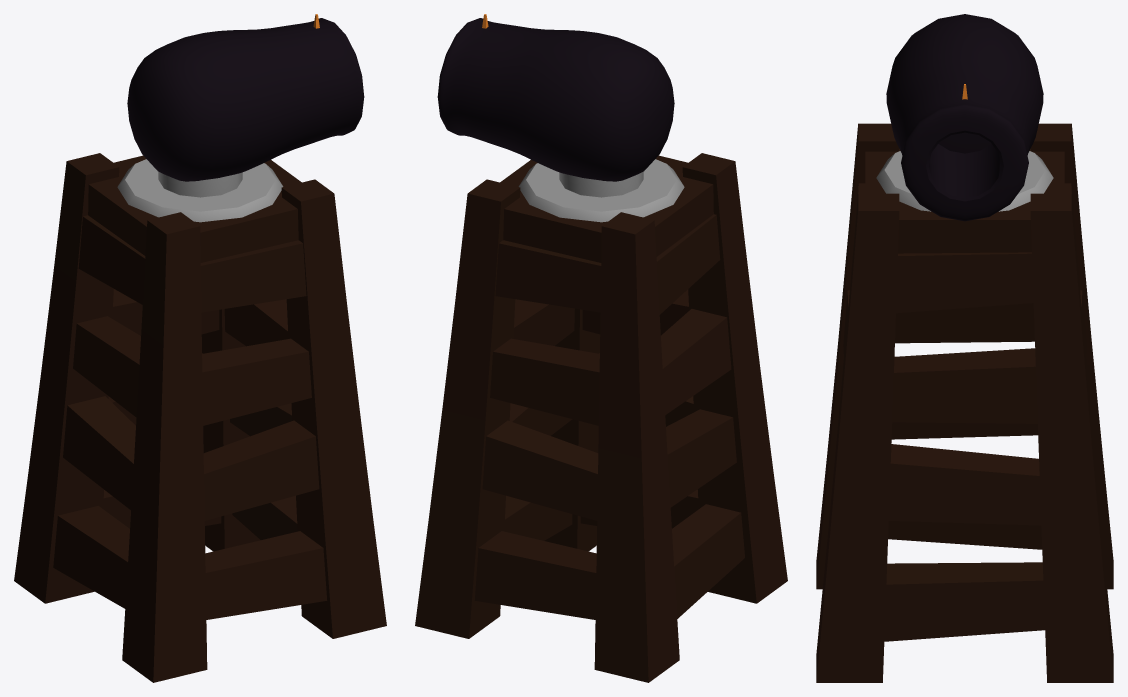
Rendered from Canon_tower (2).FBX.
3 views of the same model, side by side, from view 1: azimuth 30°, elevation 25°; view 2: azimuth 150°, elevation 25°; view 3: azimuth 270°, elevation 25° (orthographic). The views are drawn at different scales.
Parts seen in each view (by area): view 1: Object001234, Object002234, Object005234, Line002, Object004234, Box023234, Capsule001234; view 2: Object001234, Object002234, Object005234, Line002, Object004234, Box023234, Capsule001234; view 3: Object001234, Object005234, Object002234, Line002, Object004234, Box023234, Capsule001234.
Boxes of the visible parts, <box> form: Object001234: <box>14,441,386,682</box>; Object002234: <box>28,336,372,570</box>; Object005234: <box>41,266,359,458</box>; Line002: <box>127,14,364,181</box>; Object004234: <box>54,153,346,346</box>; Box023234: <box>88,155,301,262</box>; Capsule001234: <box>117,159,283,222</box>; Object001234: <box>415,441,787,682</box>; Object002234: <box>429,336,773,570</box>; Object005234: <box>442,266,760,458</box>; Line002: <box>437,14,674,181</box>; Object004234: <box>455,153,747,346</box>; Box023234: <box>500,155,713,262</box>; Capsule001234: <box>518,159,684,222</box>; Object001234: <box>816,455,1113,682</box>; Object005234: <box>838,235,1091,446</box>; Object002234: <box>827,345,1102,564</box>; Line002: <box>886,14,1043,221</box>; Object004234: <box>848,123,1081,328</box>; Box023234: <box>865,149,1064,253</box>; Capsule001234: <box>876,151,1053,211</box>.
Size of the model in its own units: 20.44 by 19.38 by 43.07.
